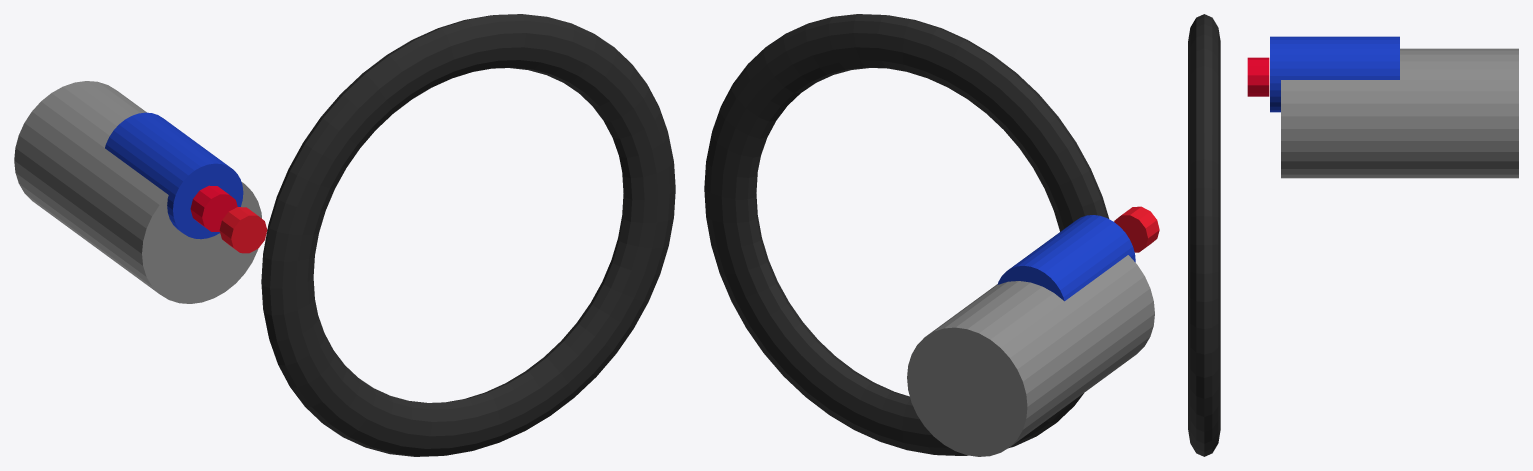
Rendered from StarterMotor_FailureSimulation.glb.
3 renders of one model, left to right at view 1: azimuth 30°, elevation 25°; view 2: azimuth 150°, elevation 25°; view 3: azimuth 270°, elevation 25°, orthographic. The views are drawn at different scales.
Parts seen in each view (by area): view 1: LING Just click.001, Start_motor, sollanoide.001, Just click, normal.001; view 2: LING Just click.001, Start_motor, sollanoide.001, Just click; view 3: Start_motor, LING Just click.001, sollanoide.001, normal.001.
Boxes of the visible parts, x1,y1,x2,y2 form: LING Just click.001: [261, 14, 675, 456]; Start_motor: [14, 81, 261, 303]; sollanoide.001: [105, 112, 243, 239]; Just click: [219, 207, 267, 253]; normal.001: [190, 185, 237, 231]; LING Just click.001: [704, 14, 1109, 455]; Start_motor: [907, 255, 1154, 456]; sollanoide.001: [997, 215, 1135, 301]; Just click: [1114, 206, 1159, 252]; Start_motor: [1281, 48, 1518, 178]; LING Just click.001: [1188, 14, 1220, 456]; sollanoide.001: [1270, 36, 1399, 112]; normal.001: [1247, 57, 1269, 96].
Size of the model in its own units: 0.4888 by 0.41 by 0.3058.
